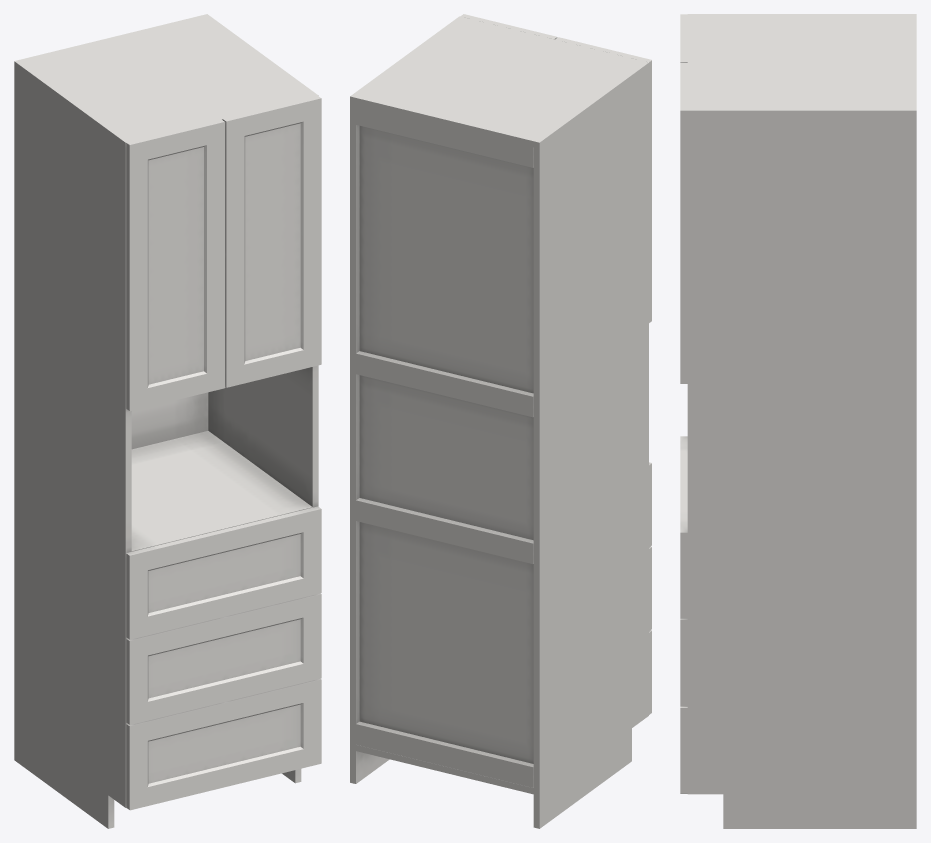
Rendered from tall-microwave-3-drawer-doors-on.glb.
3 views of the same model, side by side, from view 1: azimuth 30°, elevation 25°; view 2: azimuth 150°, elevation 25°; view 3: azimuth 270°, elevation 25° (orthographic). The views are drawn at different scales.
Parts seen in each view (by area): view 1: part_0, part_38; view 2: part_0, part_38; view 3: part_0, part_38.
Part boxes in pixels (box(x1,y1,x2,y2)): part_0: box(14, 14, 318, 828); part_38: box(126, 96, 321, 810); part_0: box(350, 16, 648, 828); part_38: box(460, 14, 651, 714); part_0: box(687, 14, 916, 828); part_38: box(680, 14, 687, 793).
Bounding box in the file's own units: 0.6096 × 2.11 × 0.6287.
Materials: 3 (2 with a texture image).
